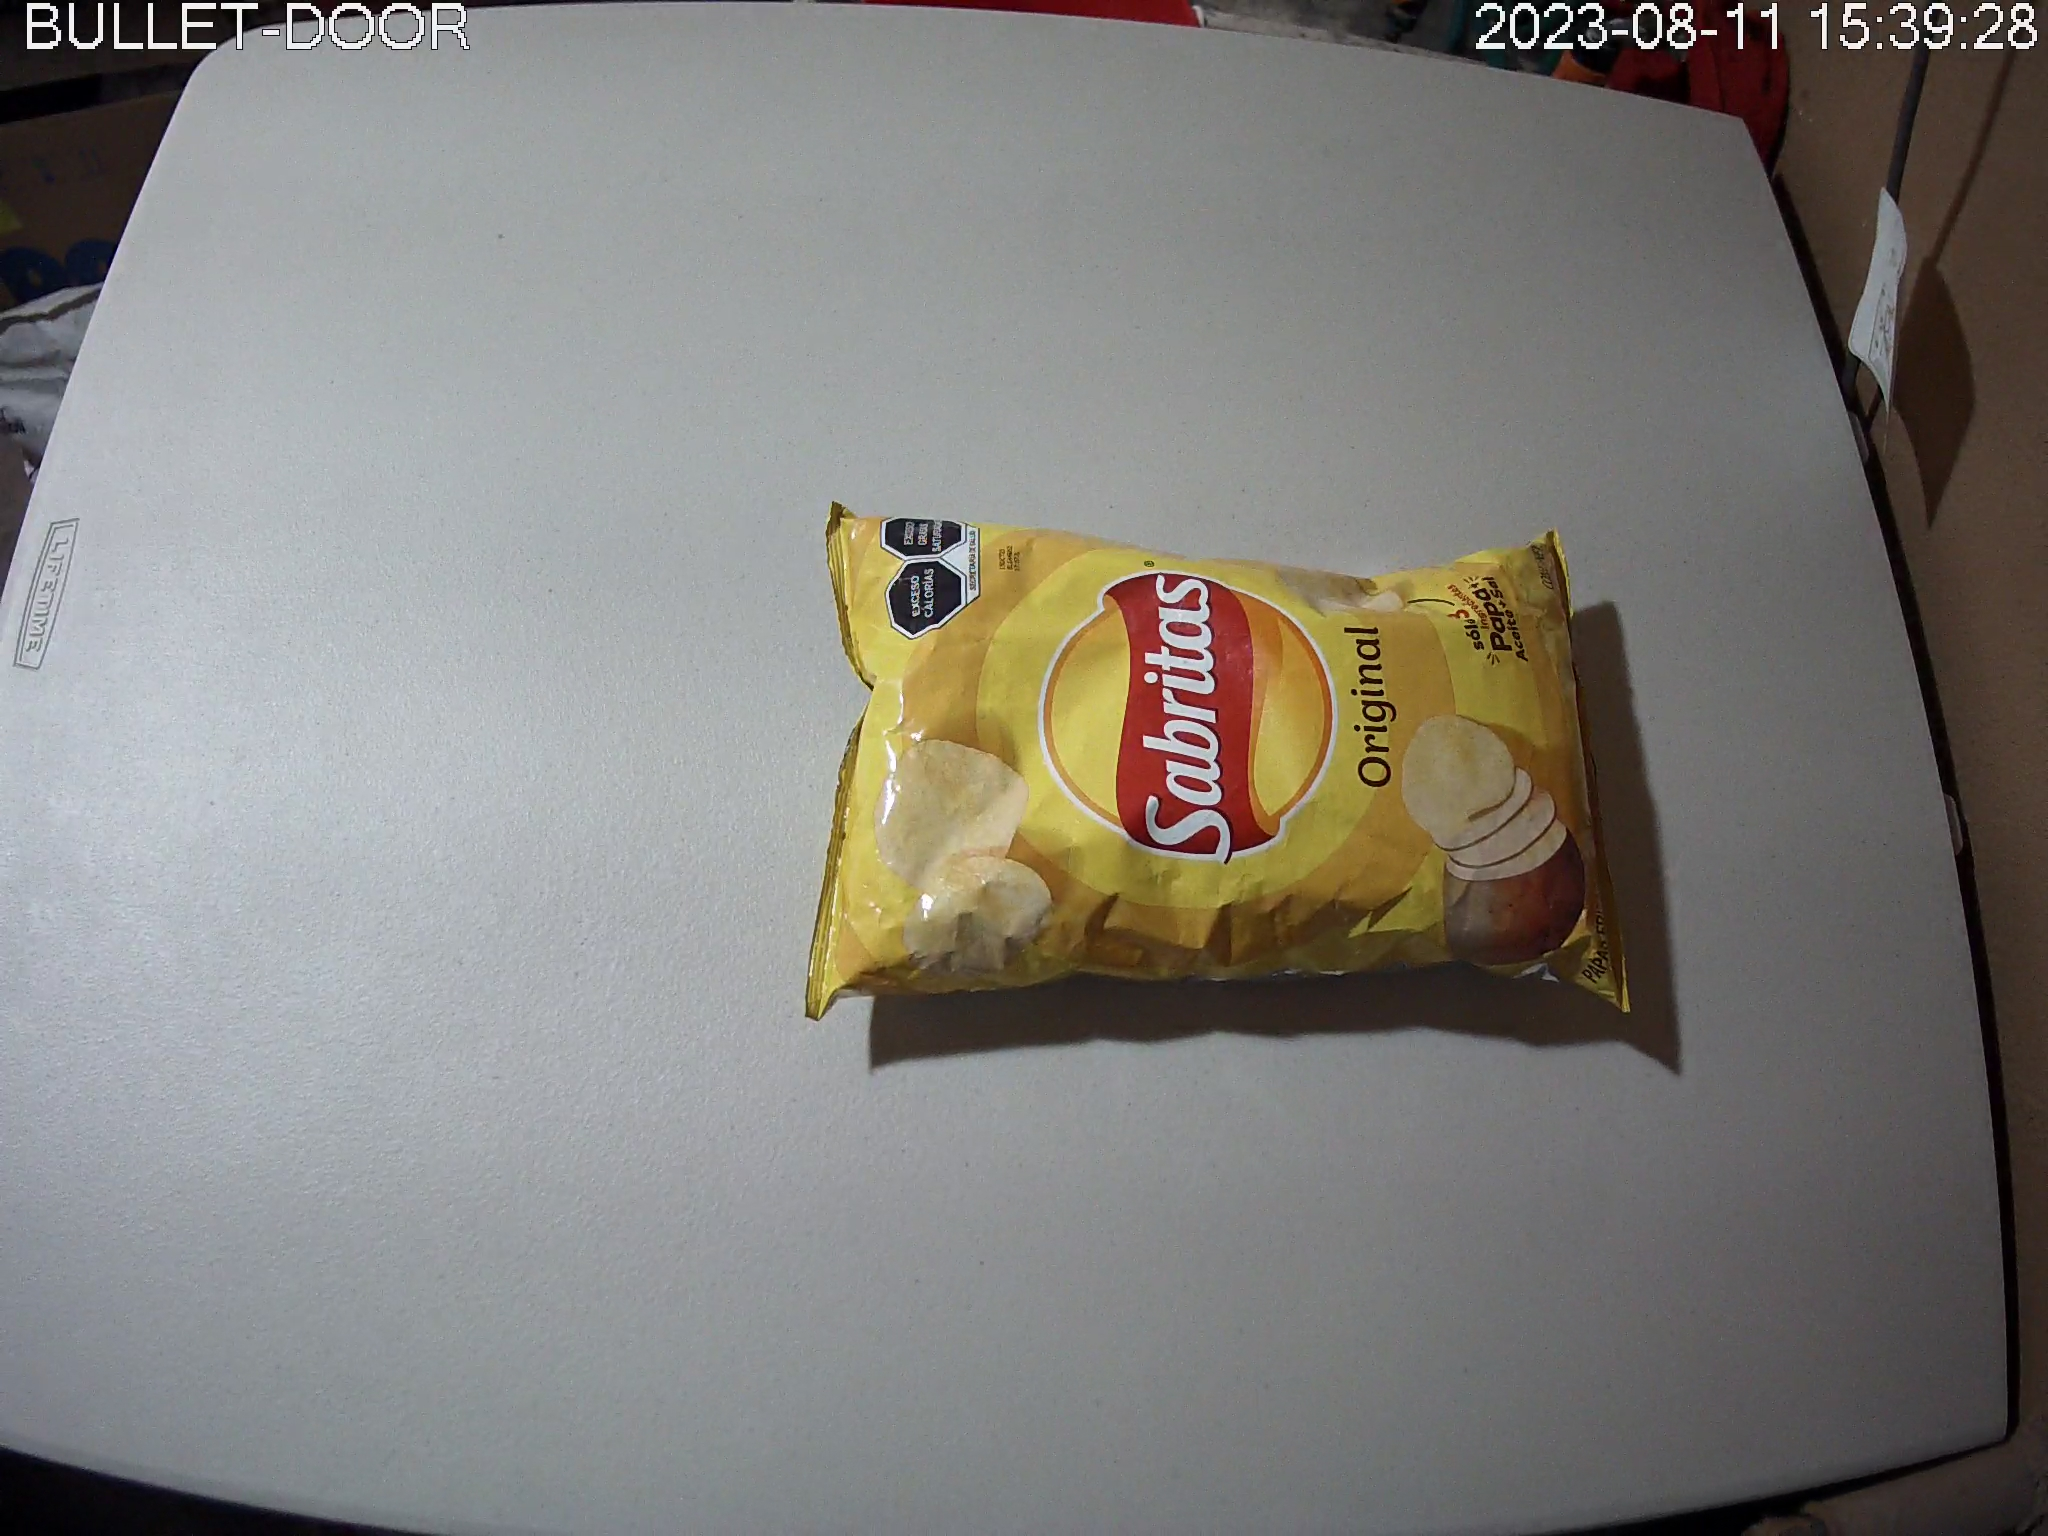Sabritas_160_F: (805, 499, 1635, 1025)
